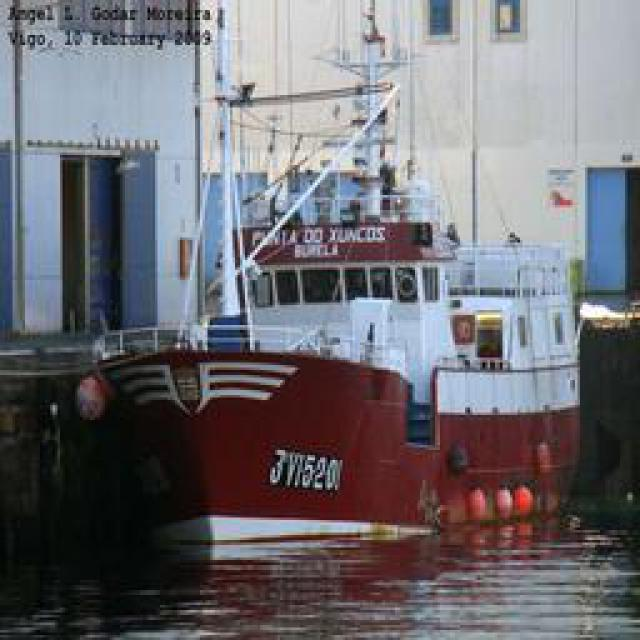Ship: (64, 7, 587, 537)
